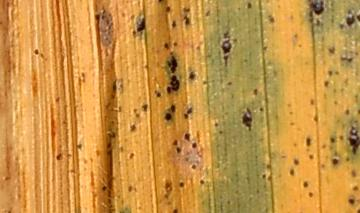tarspot: (349, 126, 360, 155), (241, 108, 252, 131), (135, 13, 146, 32), (166, 55, 178, 72), (171, 73, 181, 92), (312, 1, 324, 16), (221, 39, 231, 54), (340, 55, 354, 63), (181, 15, 191, 25), (331, 155, 340, 166), (347, 14, 355, 26), (182, 132, 191, 142), (222, 30, 232, 39), (222, 54, 229, 66), (31, 47, 40, 56), (182, 6, 191, 15), (168, 104, 177, 113), (351, 183, 360, 192), (188, 71, 196, 80), (163, 113, 172, 121), (306, 191, 315, 199), (347, 197, 355, 206), (328, 46, 336, 55), (308, 98, 316, 107), (203, 9, 211, 18), (292, 157, 299, 167), (349, 168, 356, 178), (162, 41, 170, 49), (171, 139, 179, 147), (93, 12, 101, 20), (129, 124, 137, 132), (127, 151, 135, 159), (75, 143, 83, 151), (126, 185, 134, 193), (170, 19, 177, 28), (305, 138, 312, 147), (323, 79, 330, 88), (344, 107, 351, 116), (302, 179, 308, 189), (55, 153, 62, 161), (177, 180, 185, 187), (269, 16, 276, 24), (166, 85, 172, 94), (142, 104, 148, 113), (253, 87, 259, 96), (164, 6, 171, 13), (246, 3, 253, 10), (226, 79, 233, 86), (307, 153, 314, 160), (344, 155, 351, 162), (182, 113, 190, 119), (190, 163, 196, 171), (355, 12, 360, 21), (102, 183, 107, 192), (172, 40, 178, 47), (191, 142, 197, 149), (176, 146, 182, 153), (261, 172, 267, 179), (217, 128, 223, 135), (327, 69, 333, 76), (156, 90, 161, 98), (187, 106, 192, 114), (258, 106, 264, 112), (339, 134, 345, 140), (289, 169, 294, 176), (330, 138, 336, 143), (214, 121, 219, 127), (200, 179, 205, 184), (172, 208, 177, 213), (357, 208, 360, 213), (156, 1, 163, 3)
